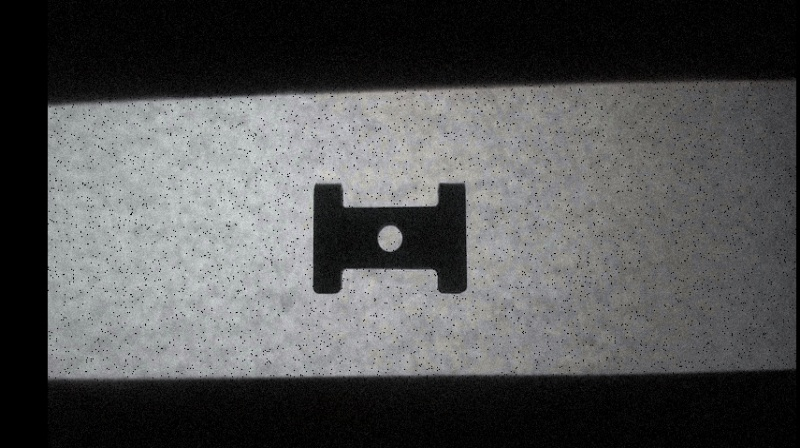O002: (310, 180, 470, 297)
